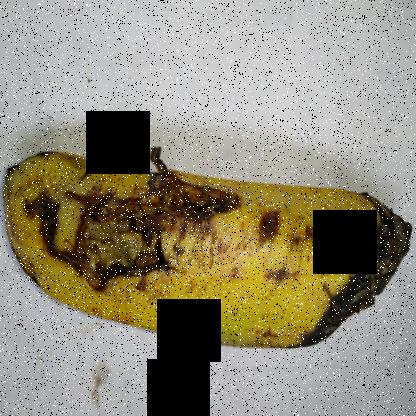rotten: (26, 140, 234, 316), (285, 162, 415, 365)
